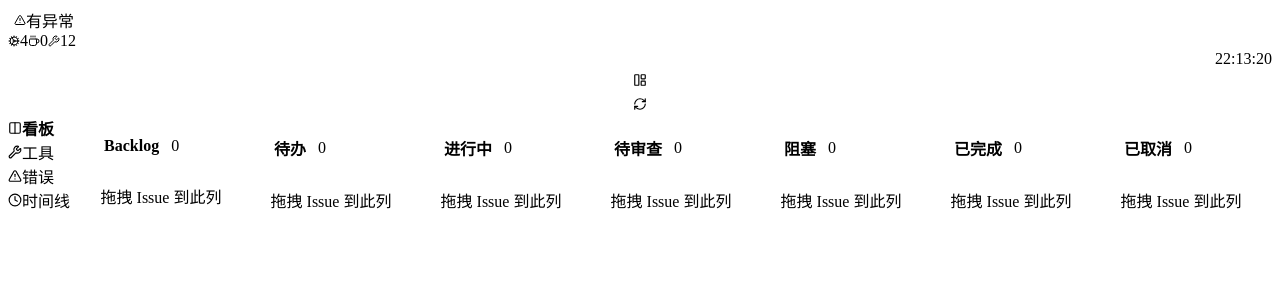
Scenario: LO-UI 监控面板 › LO-UI-13: 看板子视图默认不渲染实时事件流（否则 7 列被挤到可视区外），可手动打开
expect the element with class "lo-board-host" is shown: met, box [101, 137, 1242, 210]
What coordinates should you click on to do the following:
click the 1st button with class "lo-icon-btn"
I would click on:
 (640, 80)
Its box is [8, 68, 1272, 92].
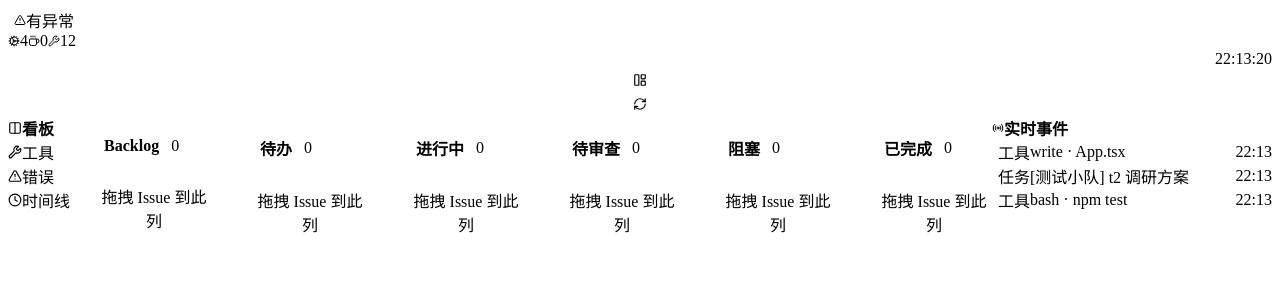
expect the element with class "lo-task__feed" is shown: met, box [992, 121, 1272, 210]
What coordinates should you click on to do the following:
click the 1st button with class "lo-icon-btn"
I would click on:
 (640, 80)
Its box is [8, 68, 1272, 92].
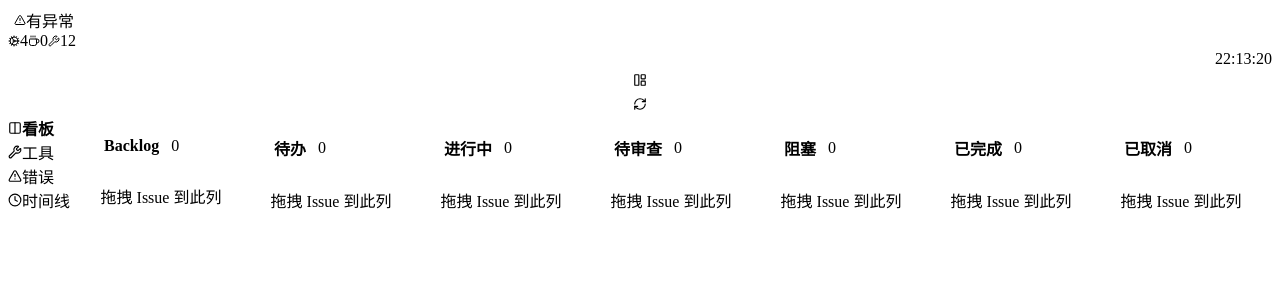
What coordinates should you click on to do the following:
click the button with class "lo-nav__btn" showing "工具"
I would click on:
 (39, 152)
Its box is [8, 140, 70, 164].
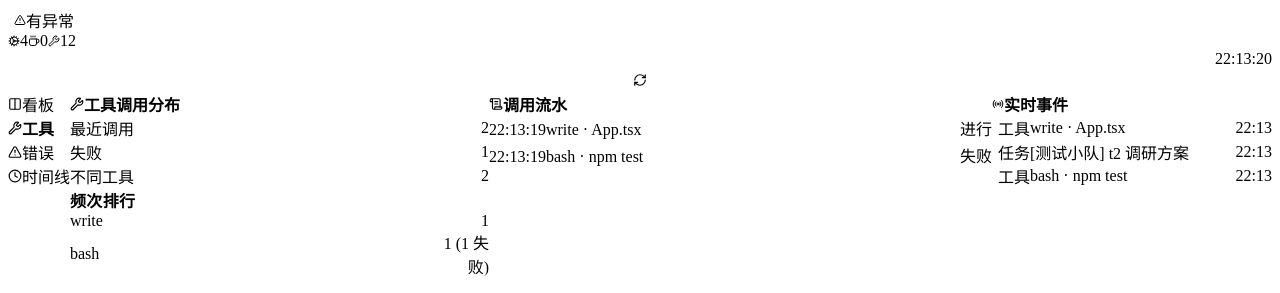
expect the element with class "lo-task__feed" is shown: met, box [992, 97, 1272, 186]
